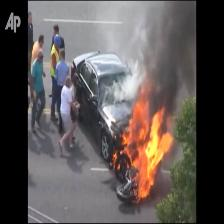fire: (121, 77, 172, 201)
